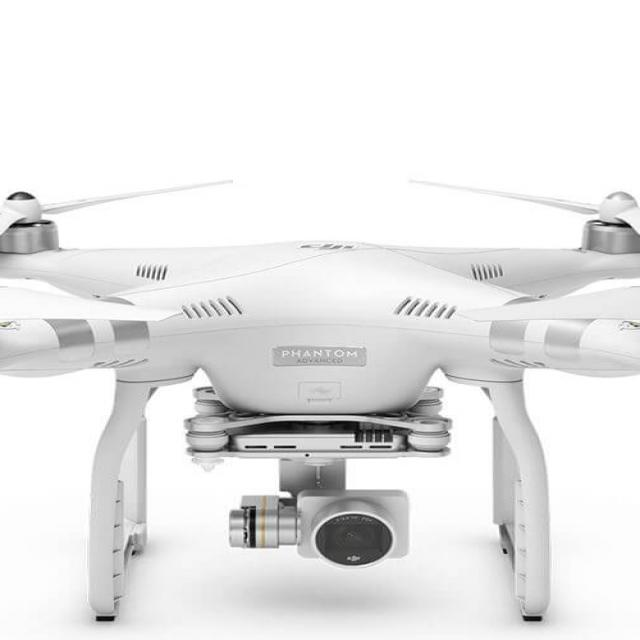drone: (0, 160, 640, 464)
